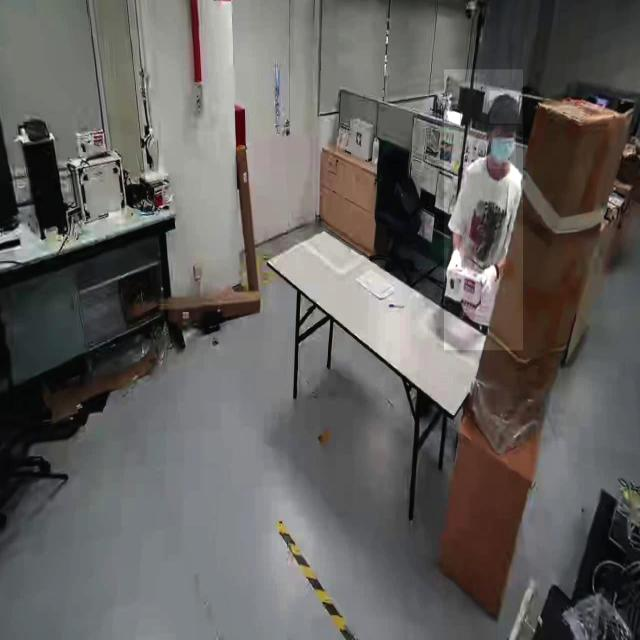face_mask: (488, 125, 516, 169)
hand_glove: (479, 260, 499, 303), (442, 248, 464, 279)
head_nohelmet: (490, 90, 522, 124)
person: (444, 69, 524, 351)
